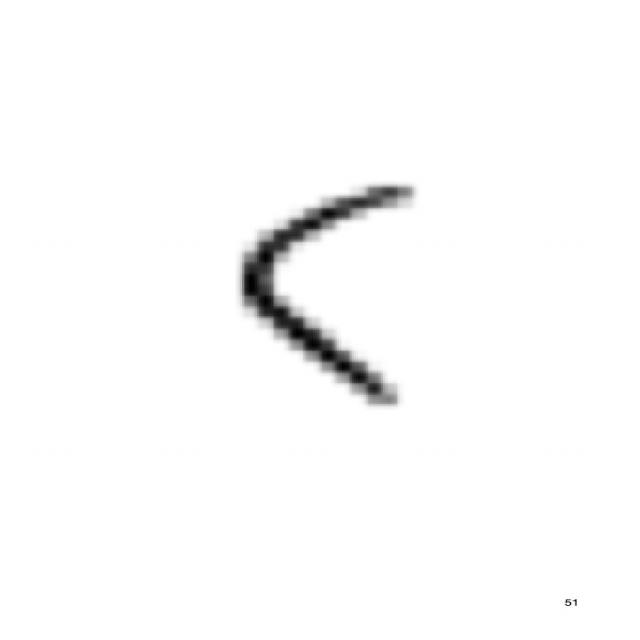2 -two-: (223, 169, 440, 417)
